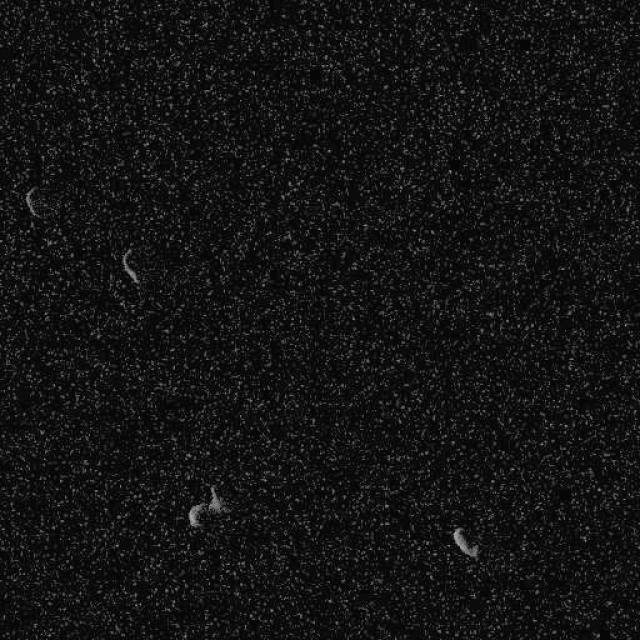D2: (186, 484, 232, 528), (451, 525, 480, 559), (120, 247, 140, 285), (23, 184, 42, 218)
